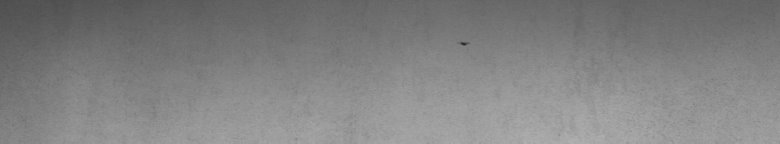fi: (457, 39, 470, 52)
